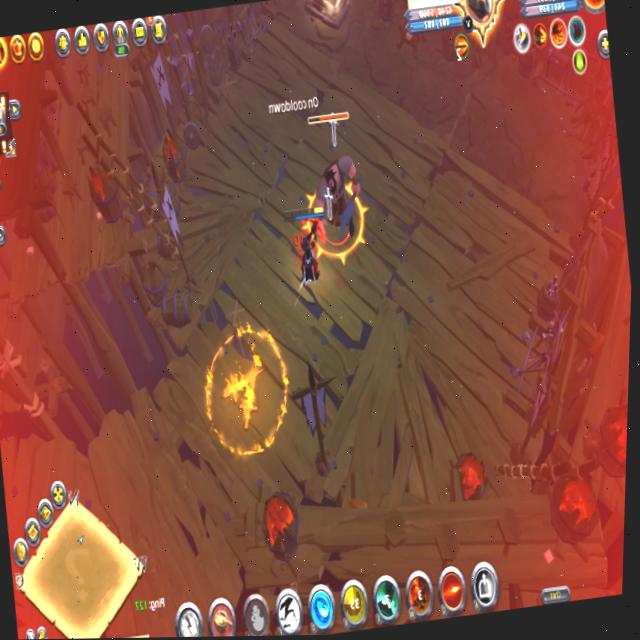ore: (284, 95, 381, 275)
red: (275, 199, 340, 291)
